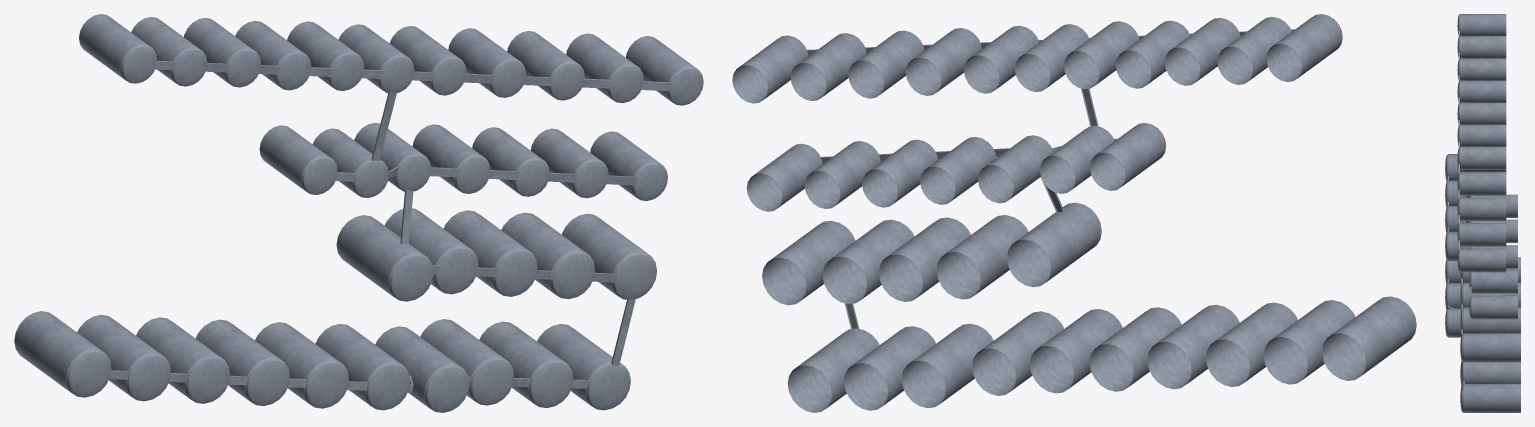
Rendered from p5_jar_blue_attach.fbx.
The picture shows the model from 3 angles, left to right: view 1: azimuth 30°, elevation 25°; view 2: azimuth 150°, elevation 25°; view 3: azimuth 270°, elevation 25°; orthographic projection. The views are drawn at different scales.
Visible parts, largest first — view 1: P5_jar_blue_attach; view 2: P5_jar_blue_attach; view 3: P5_jar_blue_attach.
Part boxes in pixels (bbox=[...]): P5_jar_blue_attach: bbox=[14, 14, 703, 412]; P5_jar_blue_attach: bbox=[732, 14, 1416, 412]; P5_jar_blue_attach: bbox=[1445, 14, 1520, 412].
Size of the model in its own units: 7401 by 5257 by 1348.
